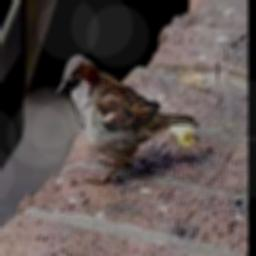Sparrow: (56, 53, 198, 181)
